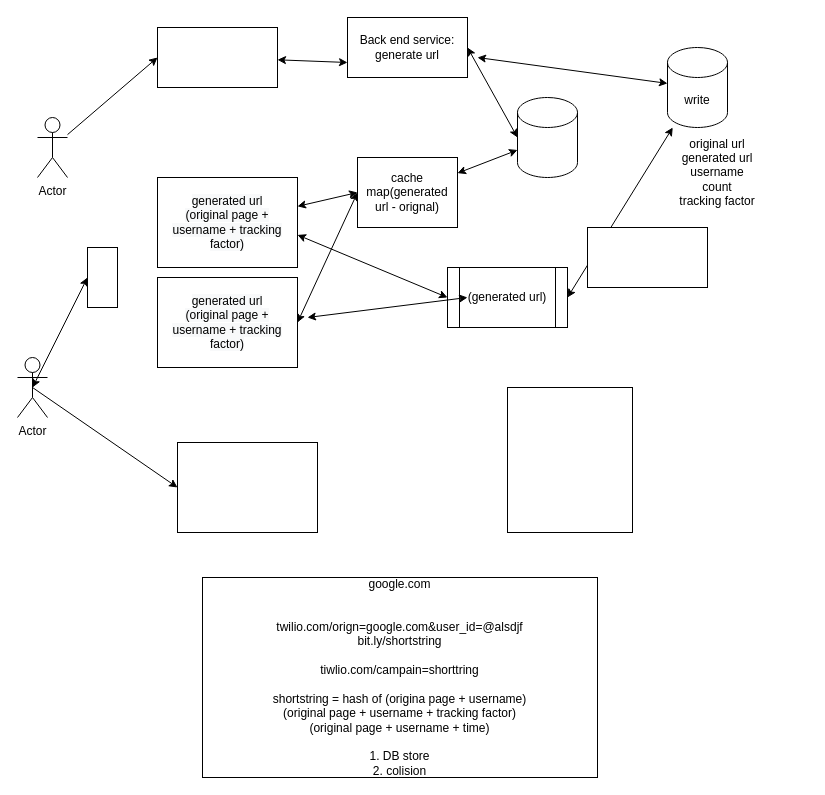
The diagram is 825 pixels wide and 795 high, and some of its shapes have lost their labels. Each missing label, with the centre of its shape:
"1. return original link as fast as possible 1. internal map 2. count update" belongs at (x=569, y=459).
"Front end service original url + username" belongs at (x=217, y=57).
"orignal page" belongs at (x=247, y=487).
"read" belongs at (x=547, y=137).
"Worker Update count" belongs at (x=647, y=257).
